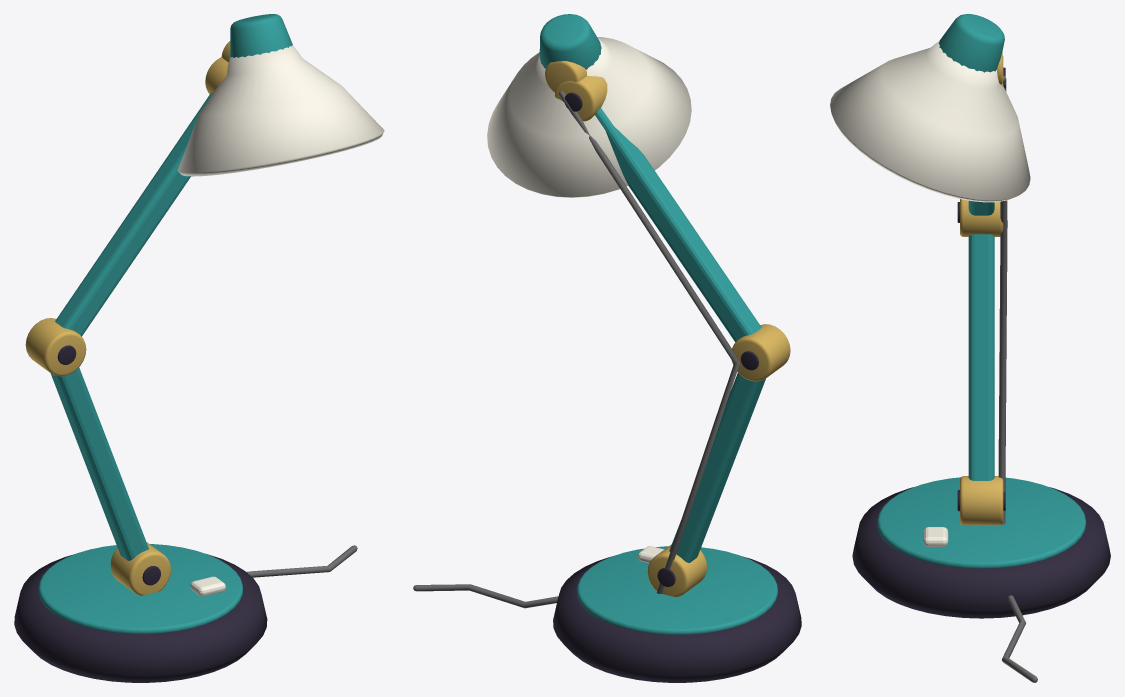
File: task_lamp.glb
3 views of the same model, side by side, from view 1: azimuth 30°, elevation 25°; view 2: azimuth 150°, elevation 25°; view 3: azimuth 270°, elevation 25° (orthographic). The views are drawn at different scales.
Visible parts, largest first — view 1: Cream_lampshade, Weighted_plum_base, Teal_base_insert, Teal_arm_segment.001, Teal_arm_segment, Brass_hinge.001, Teal_shade_cap, Brass_hinge, Power_cable; view 2: Cream_lampshade, Weighted_plum_base, Teal_base_insert, Teal_arm_segment.001, Teal_arm_segment, Arm_cable, Teal_shade_cap, Brass_hinge.001, Brass_hinge, Brass_hinge.002, Power_cable, Shade_brass_joint; view 3: Cream_lampshade, Weighted_plum_base, Teal_base_insert, Teal_arm_segment, Teal_shade_cap, Arm_cable, Brass_hinge, Brass_hinge.001, Power_cable, Ivory_switch.
Part boxes in pixels (left/top/right/bottom): Cream_lampshade: left=177, top=45, right=384, bottom=176; Weighted_plum_base: left=14, top=554, right=267, bottom=682; Teal_base_insert: left=38, top=544, right=242, bottom=633; Teal_arm_segment.001: left=55, top=93, right=212, bottom=336; Teal_arm_segment: left=50, top=367, right=148, bottom=560; Brass_hinge.001: left=25, top=318, right=86, bottom=376; Teal_shade_cap: left=230, top=14, right=292, bottom=57; Brass_hinge: left=110, top=542, right=170, bottom=595; Power_cable: left=247, top=545, right=357, bottom=577; Cream_lampshade: left=487, top=37, right=691, bottom=197; Weighted_plum_base: left=553, top=556, right=801, bottom=682; Teal_base_insert: left=576, top=546, right=777, bottom=634; Teal_arm_segment.001: left=595, top=108, right=761, bottom=342; Teal_arm_segment: left=669, top=373, right=765, bottom=562; Arm_cable: left=559, top=91, right=739, bottom=593; Teal_shade_cap: left=539, top=14, right=601, bottom=69; Brass_hinge.001: left=731, top=324, right=790, bottom=381; Brass_hinge: left=647, top=544, right=707, bottom=596; Brass_hinge.002: left=555, top=76, right=607, bottom=121; Power_cable: left=413, top=584, right=558, bottom=608; Shade_brass_joint: left=545, top=61, right=586, bottom=92; Cream_lampshade: left=830, top=40, right=1030, bottom=202; Weighted_plum_base: left=852, top=487, right=1110, bottom=618; Teal_base_insert: left=877, top=477, right=1086, bottom=568; Teal_arm_segment: left=968, top=234, right=994, bottom=480; Teal_shade_cap: left=939, top=14, right=1004, bottom=72; Arm_cable: left=998, top=75, right=1007, bottom=524; Brass_hinge: left=960, top=476, right=1003, bottom=524; Brass_hinge.001: left=960, top=199, right=1003, bottom=236; Power_cable: left=1002, top=595, right=1037, bottom=682; Ivory_switch: left=923, top=527, right=948, bottom=546.
Size of the model in its own units: 0.353 by 0.5702 by 0.239.
